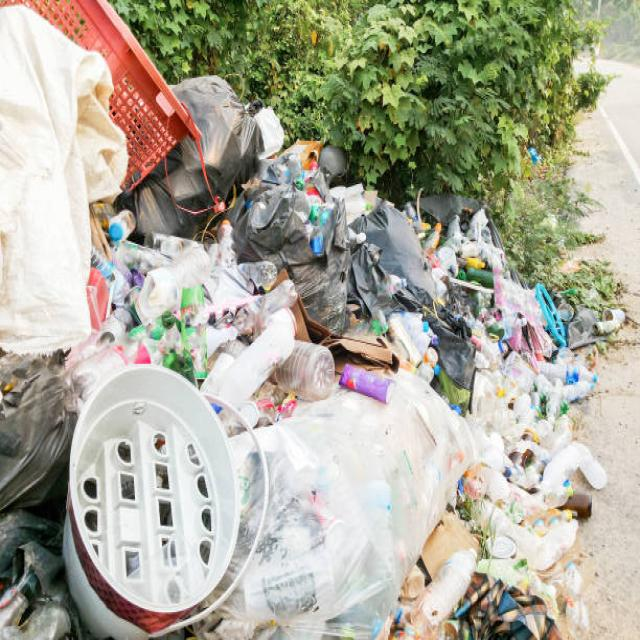plastic: (45, 332, 566, 625)
trash: (159, 56, 437, 311)
